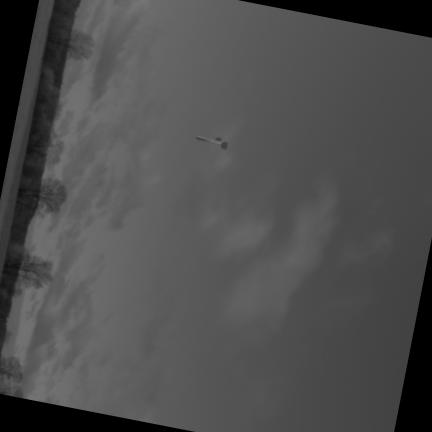Shahed: (193, 135, 228, 152)
